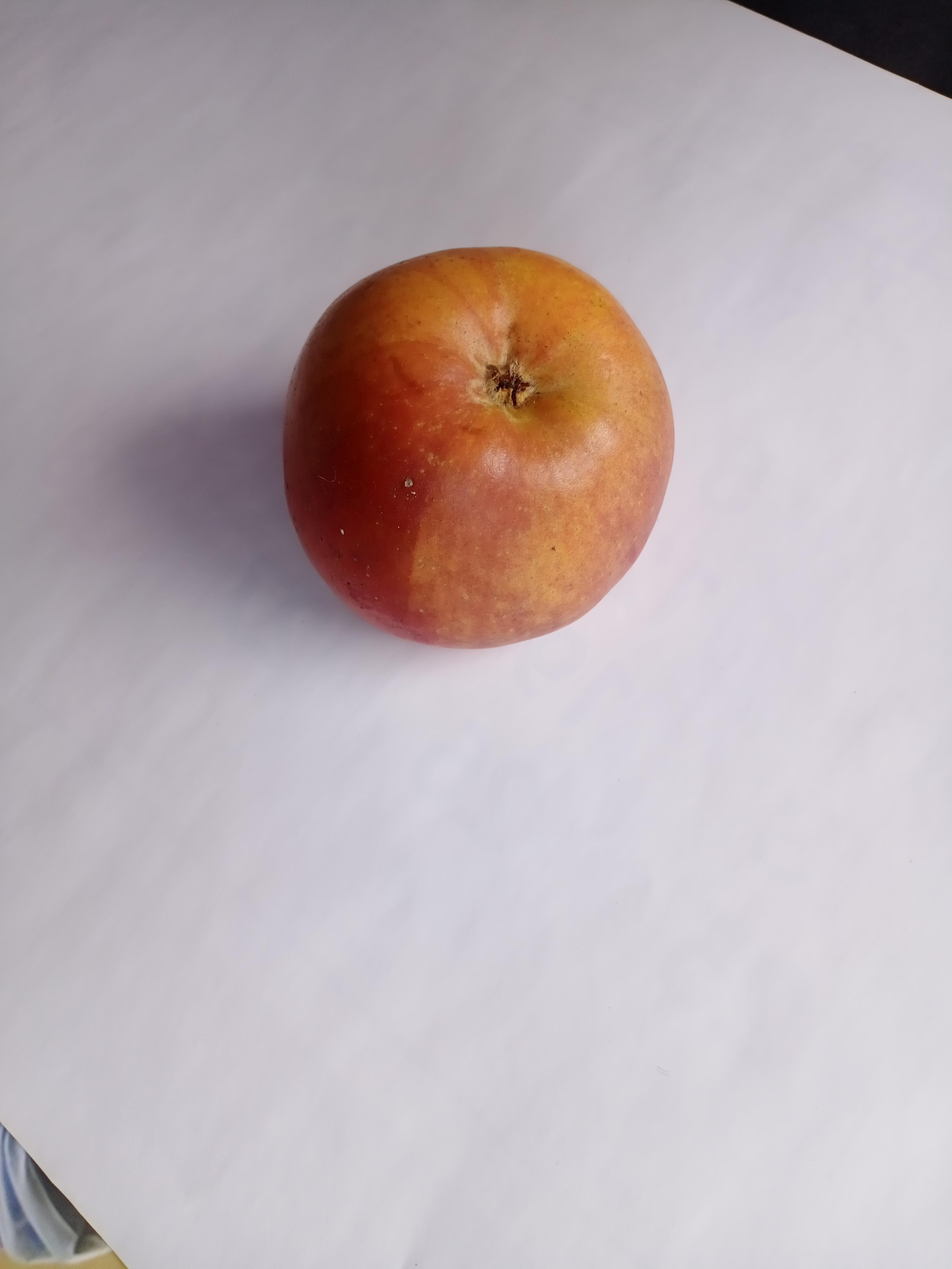Apple Ripe: (265, 215, 677, 686)
